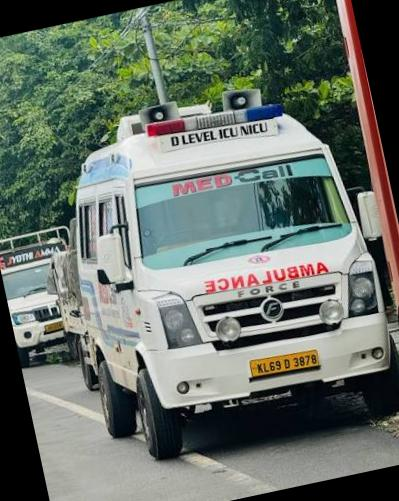ambulance: (26, 59, 399, 474)
